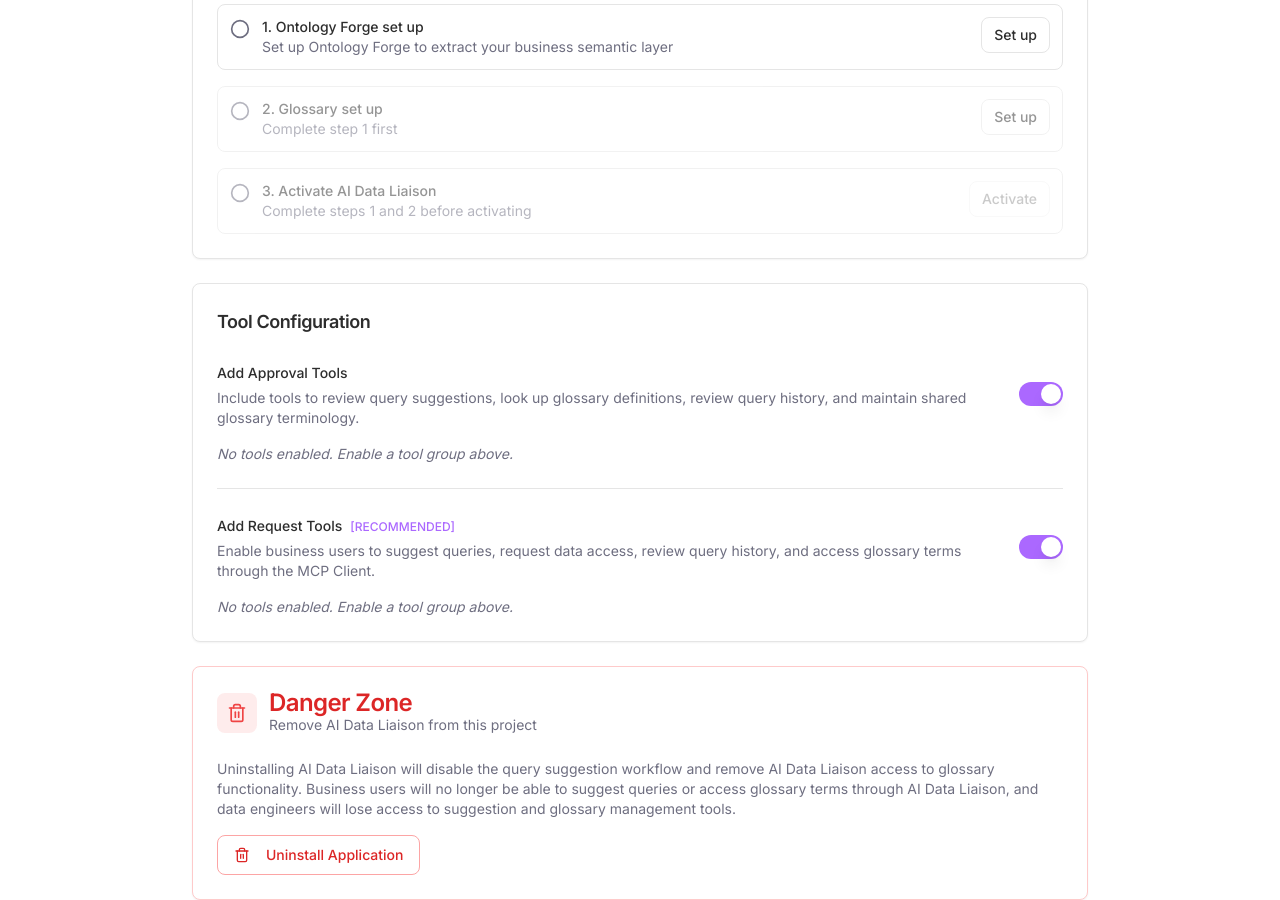
Test: AIDataLiaisonPage › Uninstall Dialog › opens dialog when uninstall button clicked
(page scrolled)
Click the button "Uninstall Application" at point(319, 855), box [217,835,420,875]
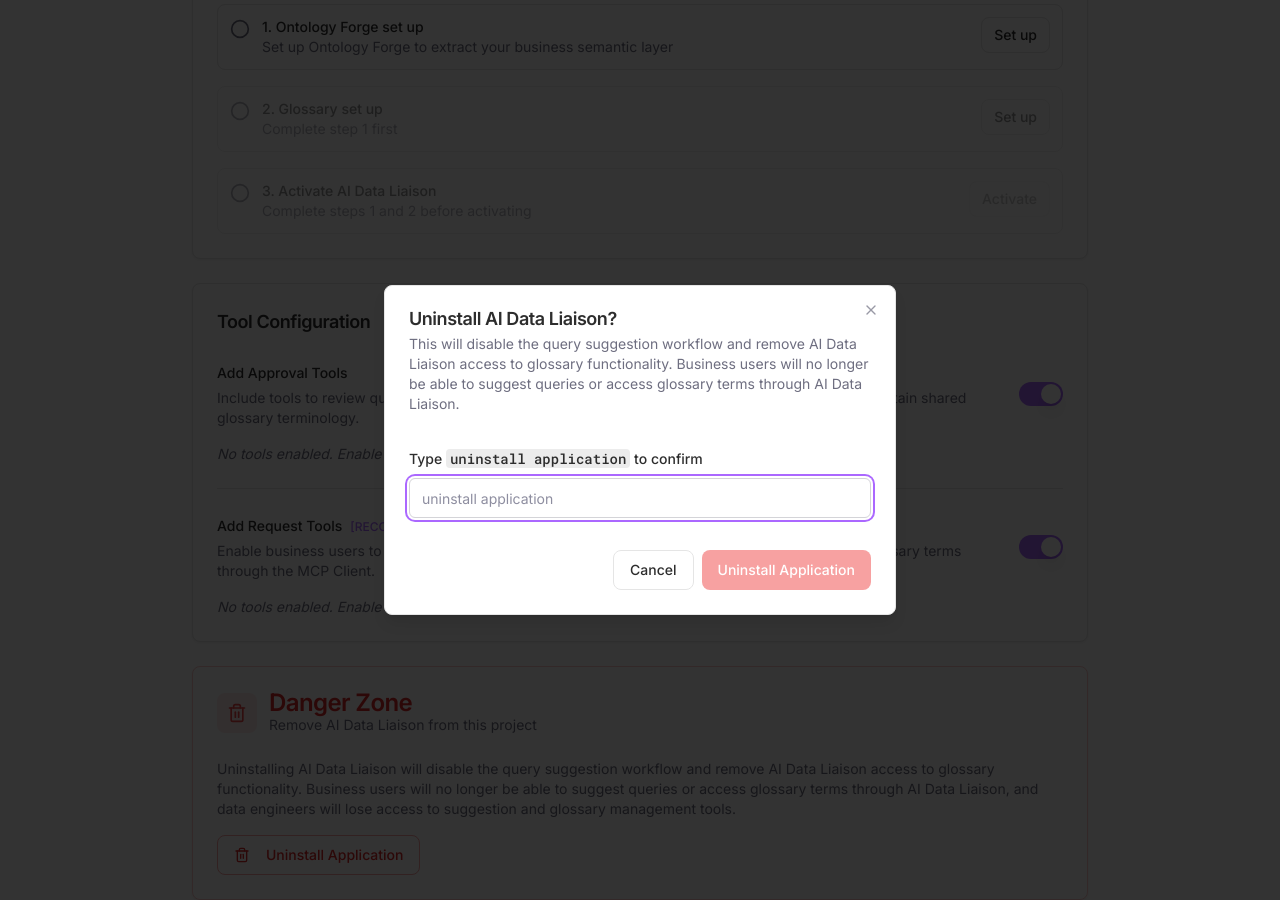
Check: the heading "Uninstall AI Data Liaison?" is shown, box [409,308,617,329]
